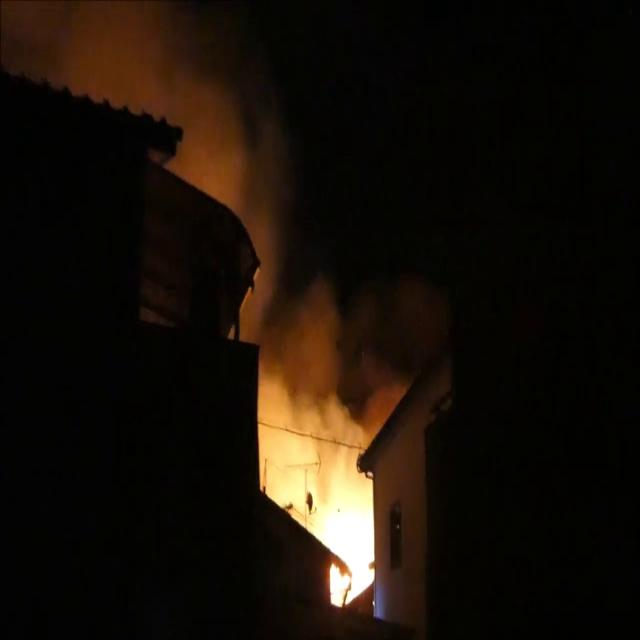Fire: (319, 481, 378, 611)
Smoke: (240, 290, 383, 524)
